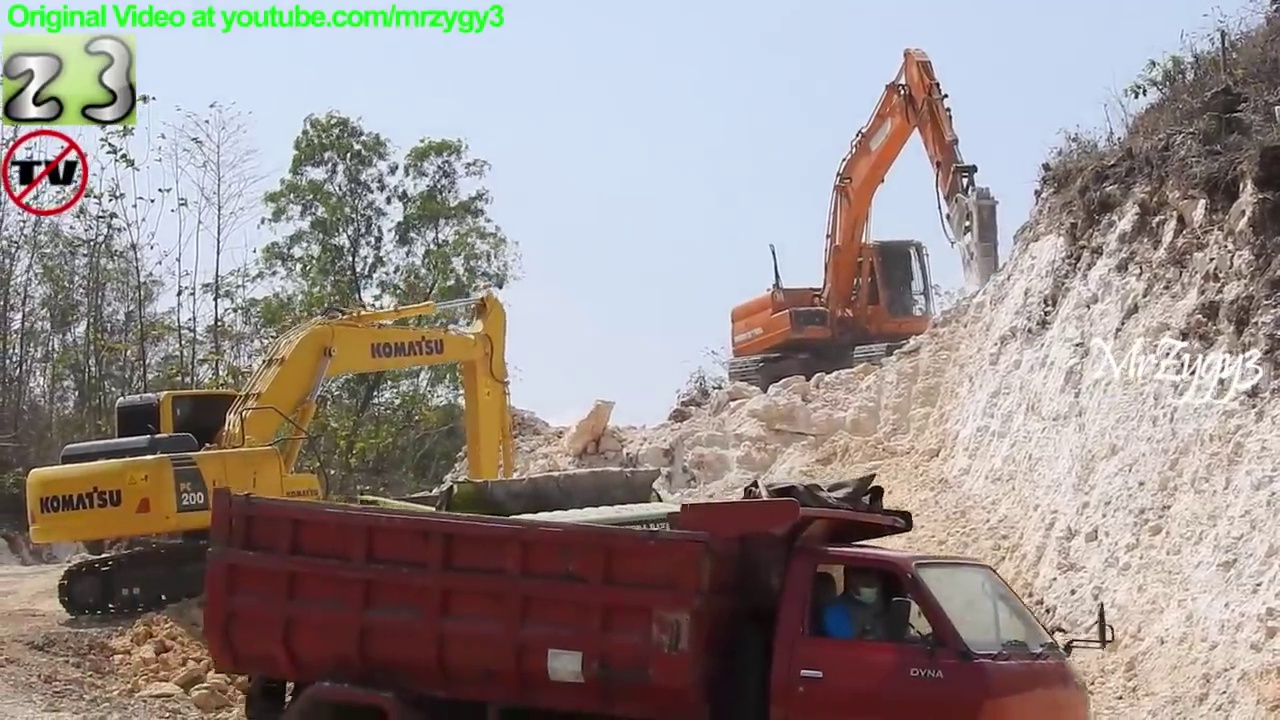excavator: (19, 283, 550, 623), (723, 41, 1010, 398)
truck: (189, 481, 1122, 720), (336, 462, 713, 720)
